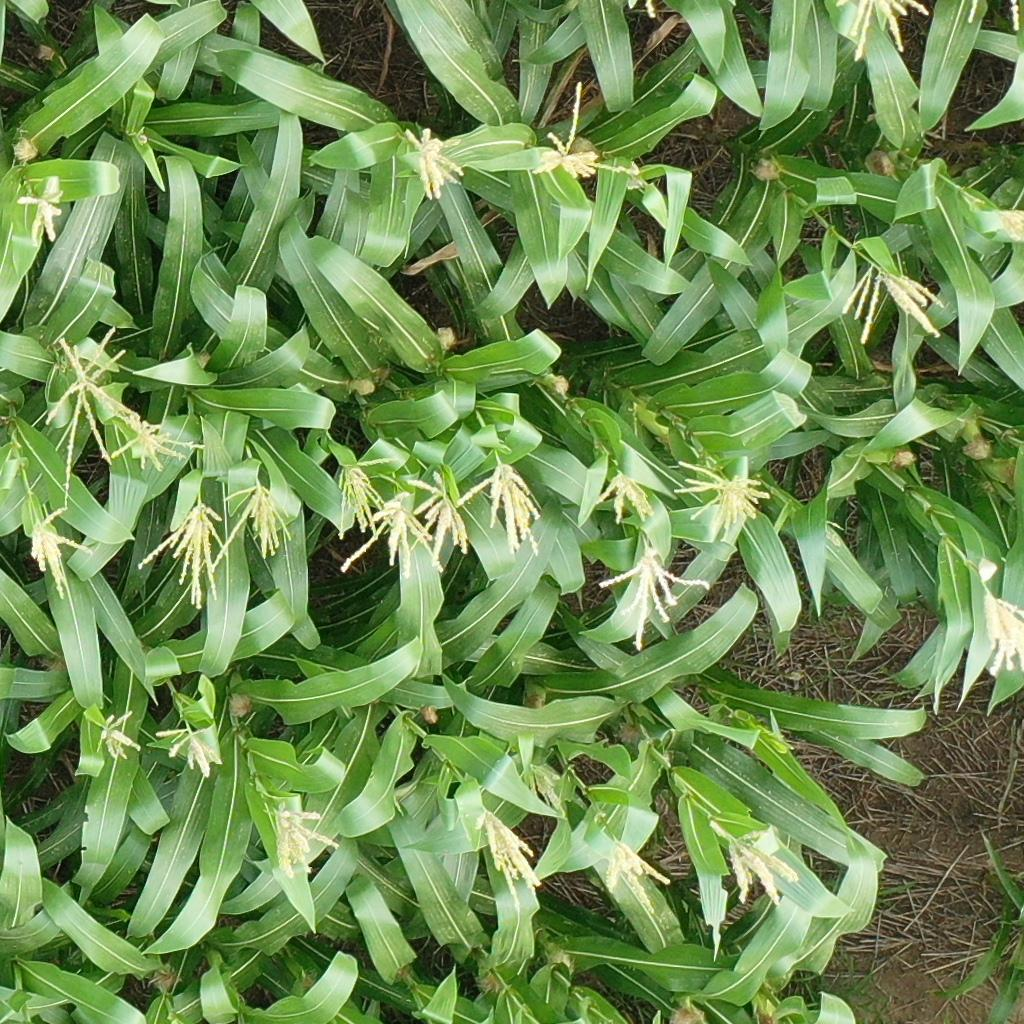Tassel: (43, 326, 128, 508), (523, 77, 644, 188), (593, 545, 709, 650), (136, 498, 232, 610), (340, 488, 445, 579), (841, 263, 947, 349), (669, 456, 771, 545), (456, 460, 543, 556), (471, 806, 547, 914), (204, 482, 295, 572), (706, 814, 793, 906), (402, 469, 471, 569), (27, 506, 93, 603), (109, 409, 209, 472), (834, 1, 932, 63), (603, 836, 673, 919), (266, 804, 339, 880), (334, 455, 396, 544), (405, 127, 465, 202), (587, 466, 656, 528), (979, 589, 1024, 676), (154, 723, 225, 777), (15, 181, 65, 252), (529, 762, 568, 819), (99, 708, 142, 759), (989, 205, 1024, 243), (137, 127, 150, 146)
